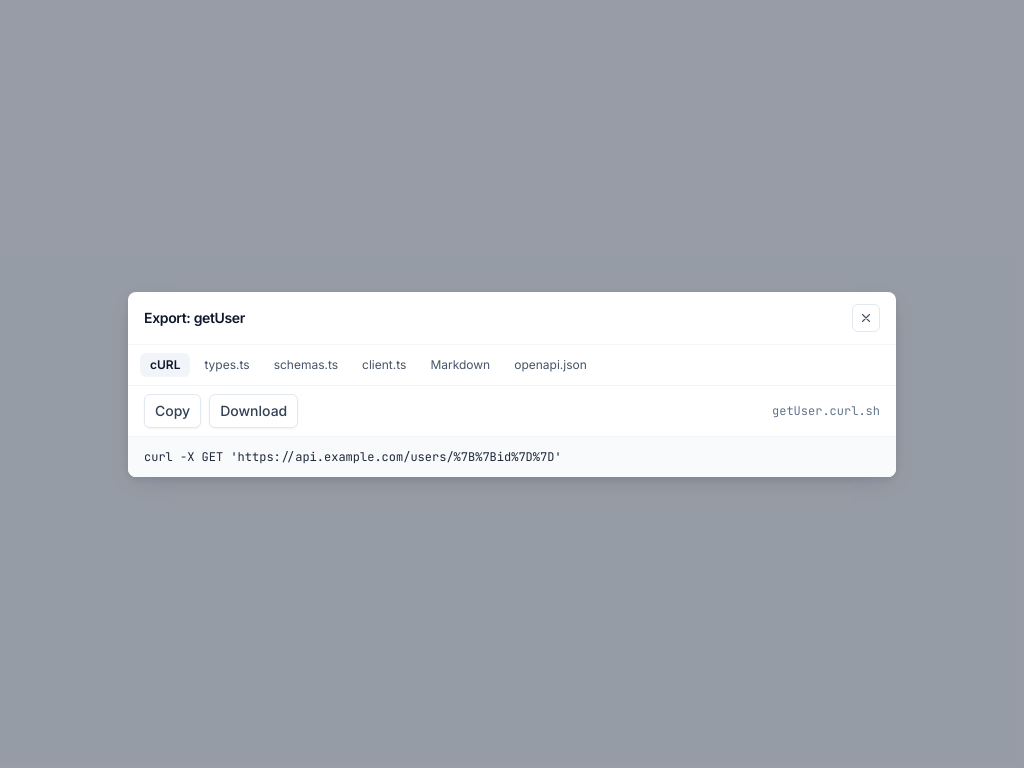
Scenario: Markdown tab renders the per-endpoint cheatsheet
Step 1. Click the tab "Markdown" → (460, 364), box [420, 352, 500, 376]
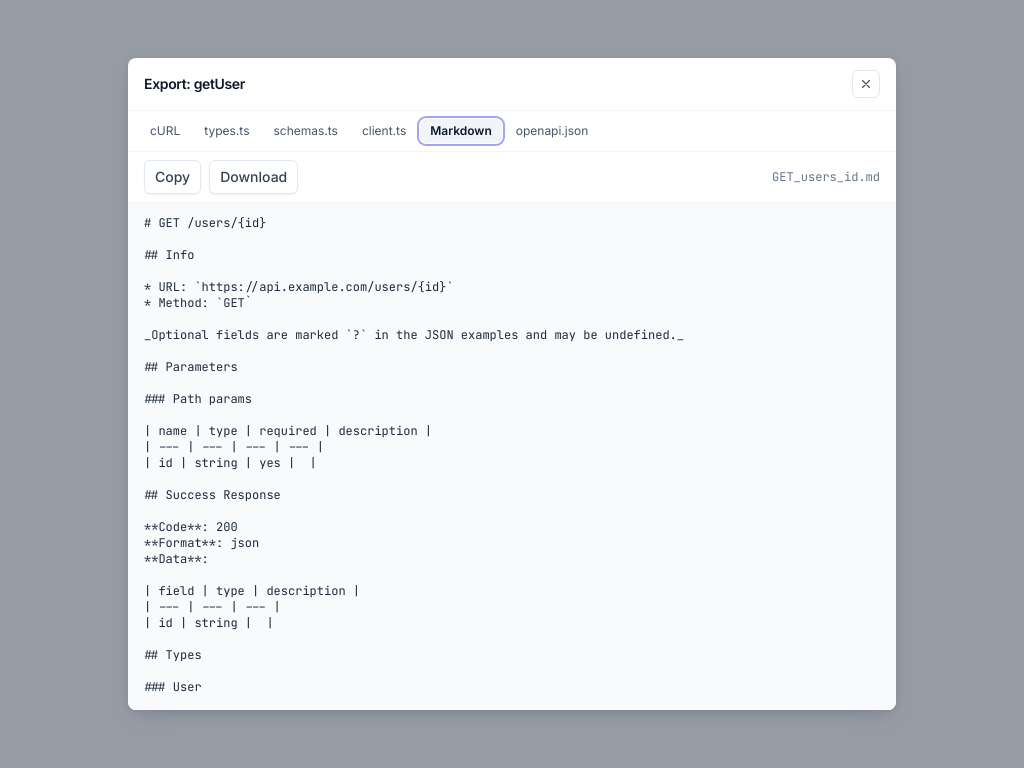
Expected: the text "## Info" is shown, [144, 215, 684, 710]
Expected: the text "## Success Response" is shown, [144, 215, 684, 710]
Expected: the text "* Method: `GET`" is shown, [144, 215, 684, 710]
